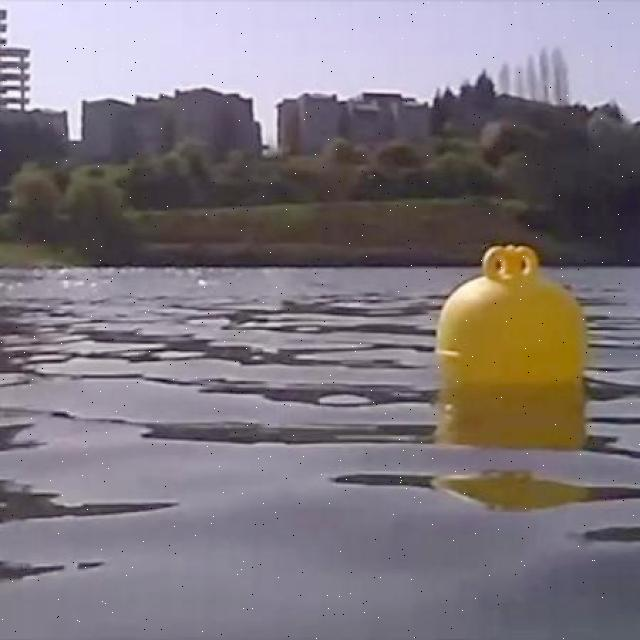buoy: (432, 248, 585, 376)
